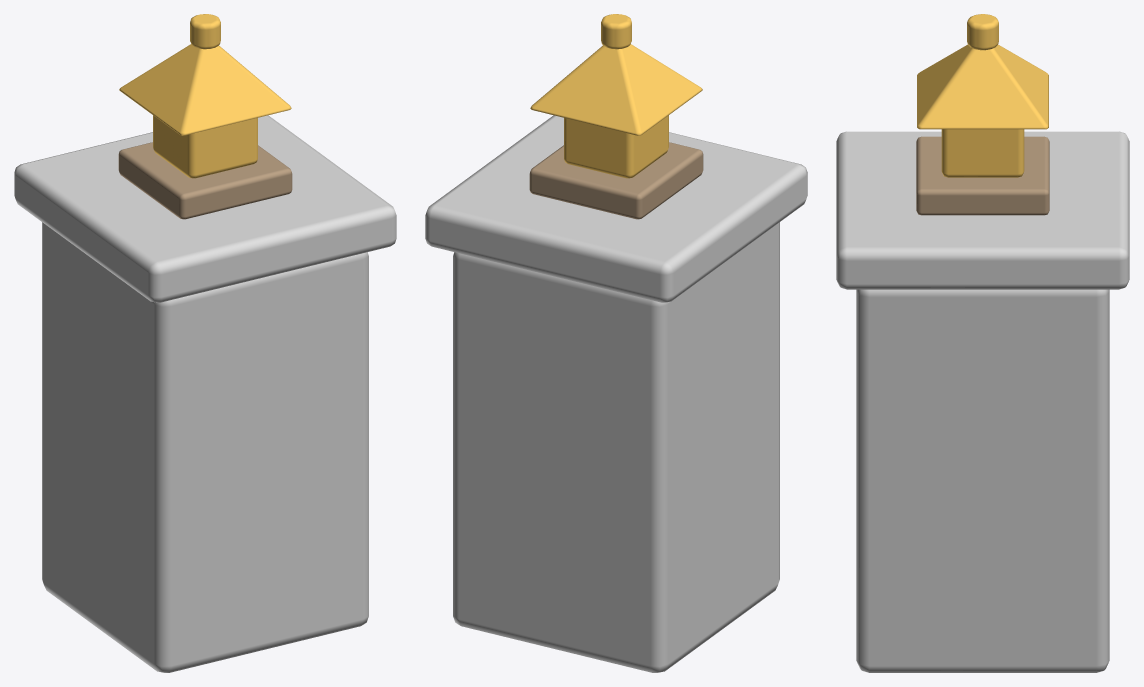
The model's file is Lobby_PROP_StonePost.fbx.
3 views of the same model, side by side, from view 1: azimuth 30°, elevation 25°; view 2: azimuth 150°, elevation 25°; view 3: azimuth 270°, elevation 25° (orthographic). The views are drawn at different scales.
Parts seen in each view (by area): view 1: Lobby_PROP_StonePost__Marble, Lobby_PROP_StonePost__Gold, Lobby_PROP_StonePost__Bronze; view 2: Lobby_PROP_StonePost__Marble, Lobby_PROP_StonePost__Gold, Lobby_PROP_StonePost__Bronze; view 3: Lobby_PROP_StonePost__Marble, Lobby_PROP_StonePost__Gold, Lobby_PROP_StonePost__Bronze.
Boxes of the visible parts, x1,y1,x2,y2 form: Lobby_PROP_StonePost__Marble: (14, 115, 396, 672); Lobby_PROP_StonePost__Gold: (119, 14, 291, 178); Lobby_PROP_StonePost__Bronze: (118, 142, 292, 219); Lobby_PROP_StonePost__Marble: (425, 115, 807, 672); Lobby_PROP_StonePost__Gold: (530, 14, 702, 178); Lobby_PROP_StonePost__Bronze: (529, 142, 703, 219); Lobby_PROP_StonePost__Marble: (836, 131, 1129, 672); Lobby_PROP_StonePost__Gold: (917, 14, 1048, 177); Lobby_PROP_StonePost__Bronze: (916, 136, 1049, 215).
Bounding box in the file's own units: 2.2 × 5.01 × 2.2.
